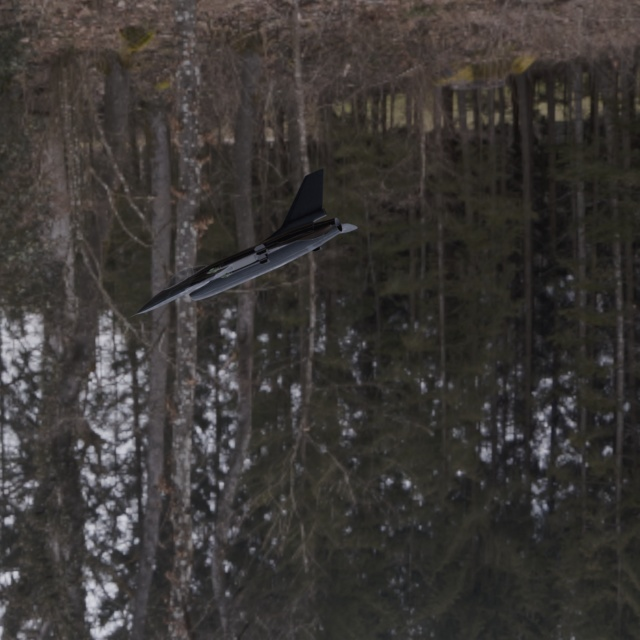model: (66, 165, 378, 341)
